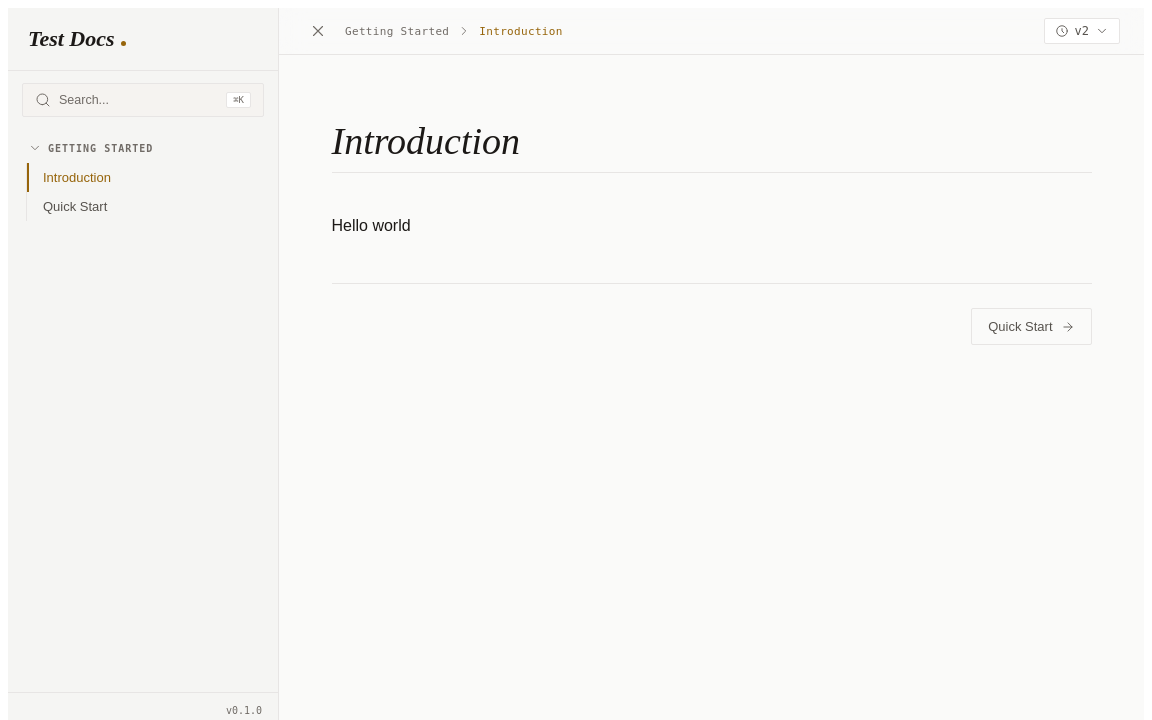
Test: Shell version switcher › opens dropdown when version switcher is clicked
Click the button with test id "version-switcher". click: (1082, 31)
box: [1044,18,1120,44]
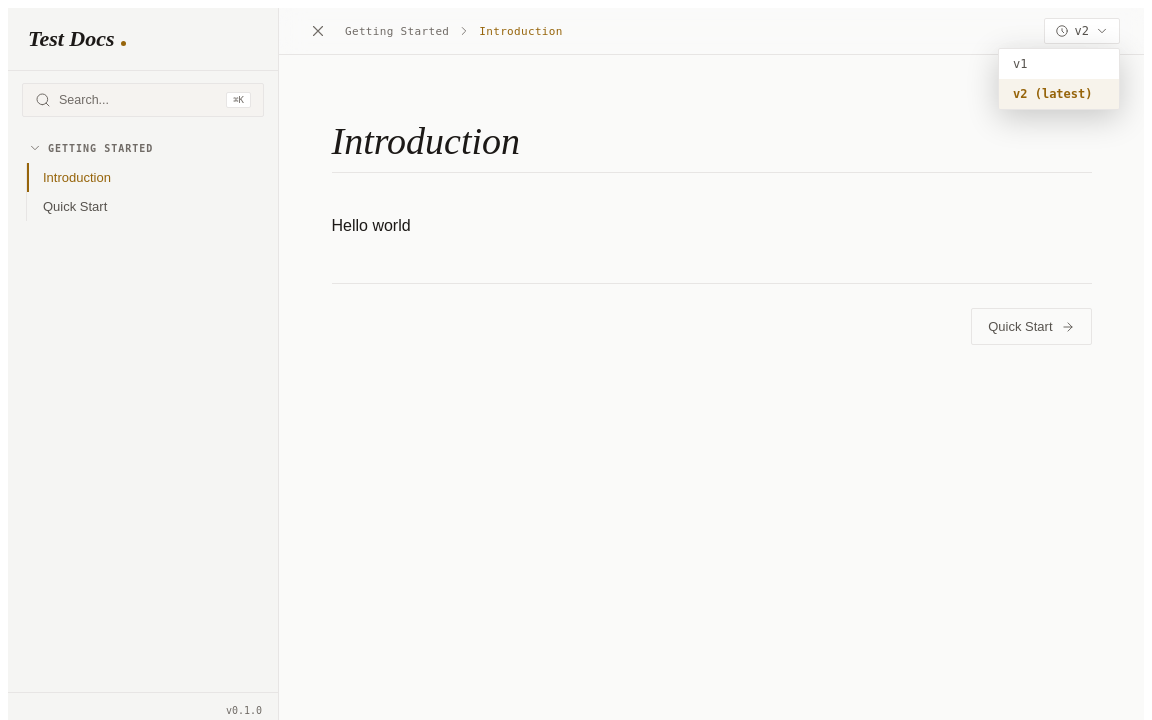
Expected: the element with test id "version-dropdown" is shown, [998,48,1120,110]
